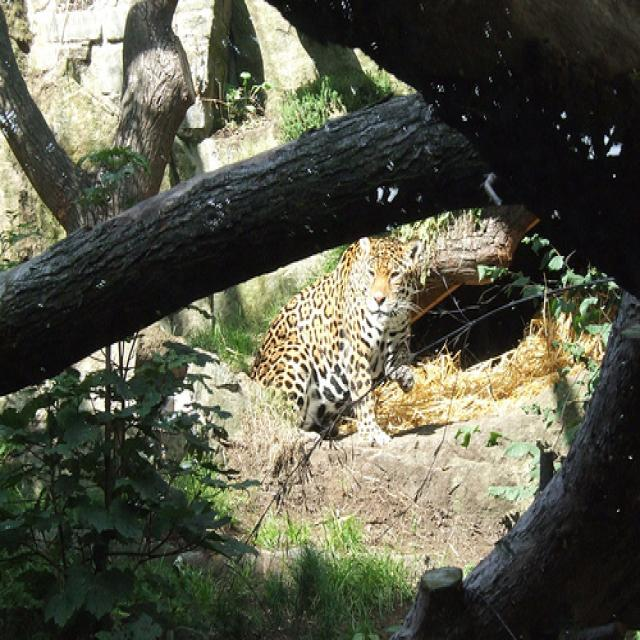Leopard: (241, 227, 417, 451)
